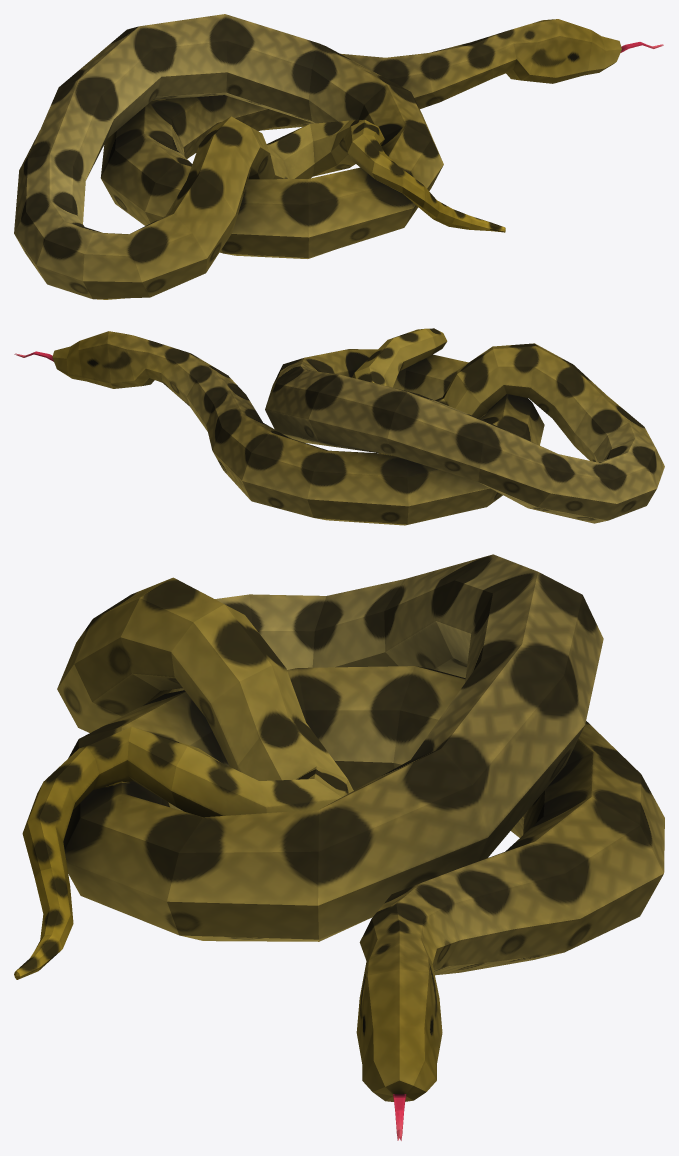
Rendered from ebc080eb-4020-41e0-b80b-c479ea8ac31f.glb.
3 renders of one model, top to bottom at view 1: azimuth 30°, elevation 25°; view 2: azimuth 150°, elevation 25°; view 3: azimuth 270°, elevation 25°, orthographic. The views are drawn at different scales.
Visible parts, largest first — view 1: Anaconda_mesh; view 2: Anaconda_mesh; view 3: Anaconda_mesh.
Boxes of the visible parts, x1,y1,x2,y2 form: Anaconda_mesh: [14, 14, 663, 299]; Anaconda_mesh: [14, 328, 664, 525]; Anaconda_mesh: [14, 554, 664, 1140].
Size of the model in its own units: 19.65 by 4.45 by 9.84.
Materials: 1 (1 with a texture image).
